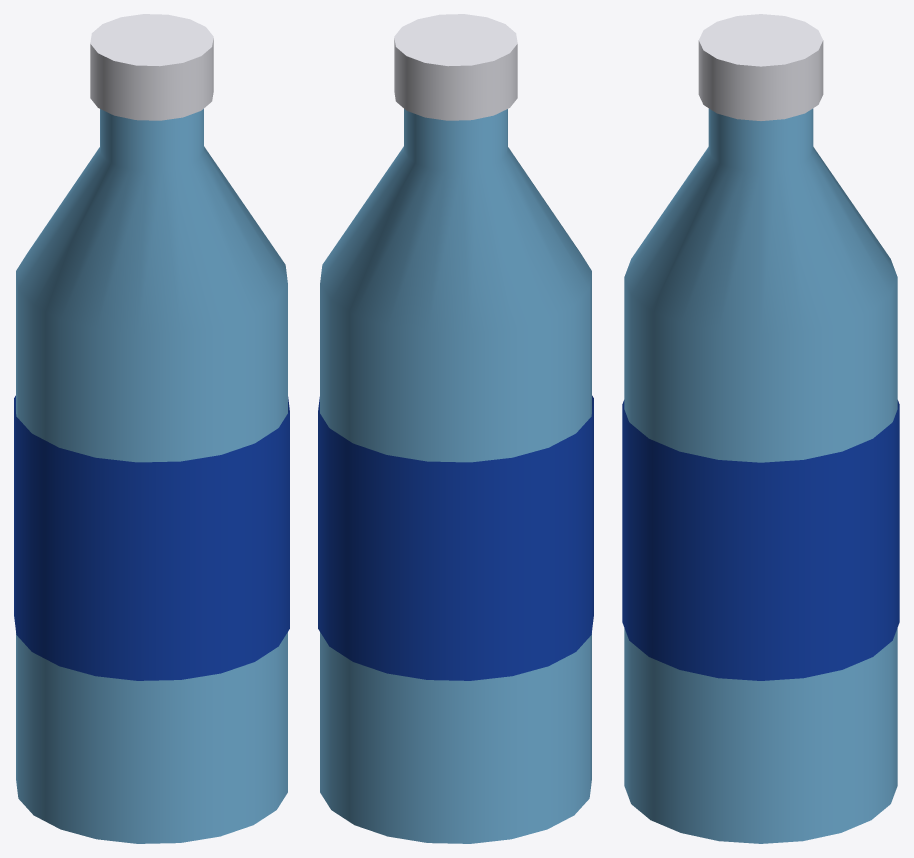
The model's file is botella.obj.
3 views of the same model, side by side, from view 1: azimuth 30°, elevation 25°; view 2: azimuth 150°, elevation 25°; view 3: azimuth 270°, elevation 25° (orthographic).
Size of the model in its own units: 0.069 by 0.205 by 0.069.
